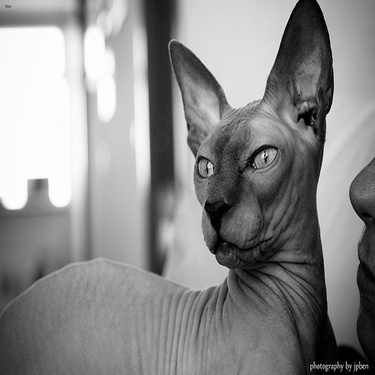cat: (3, 1, 338, 369)
